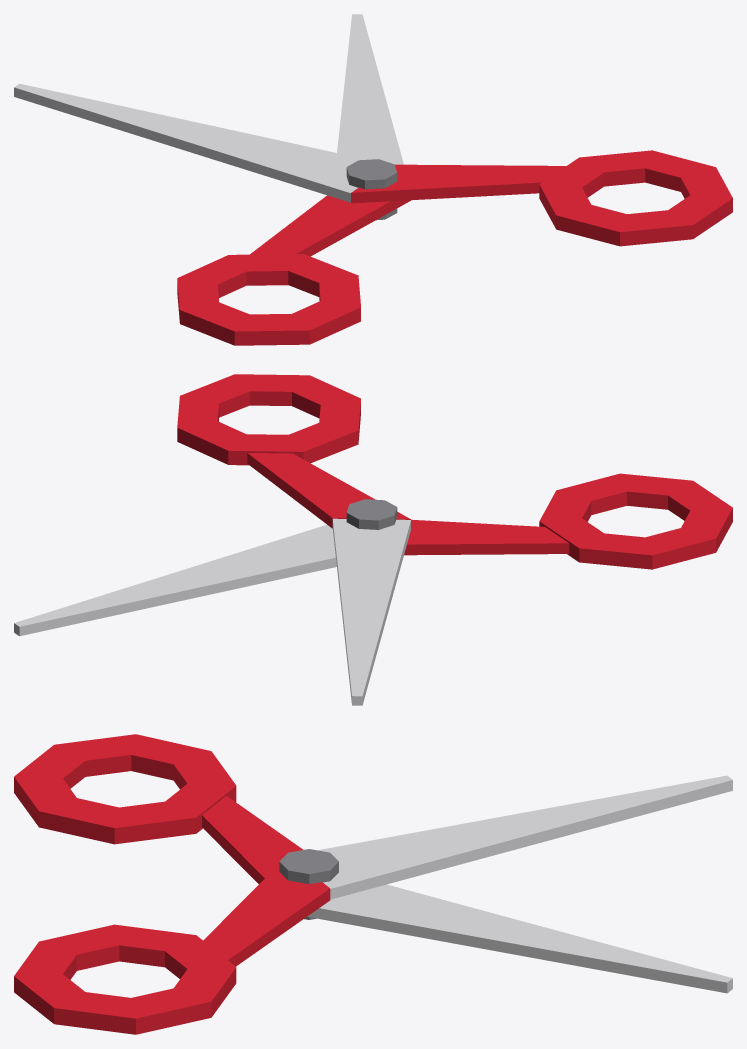
Rendered from ciseaux.glb.
3 views of the same model, one above another, from view 1: azimuth 30°, elevation 25°; view 2: azimuth 150°, elevation 25°; view 3: azimuth 270°, elevation 25° (orthographic). The views are drawn at different scales.
Parts seen in each view (by area): view 1: model; view 2: model; view 3: model.
Part boxes in pixels (box(x1,y1,x2,y2)): model: box(14, 14, 732, 345); model: box(14, 374, 732, 705); model: box(14, 734, 732, 1034).
Bounding box in the file's own units: 4.73 × 0.34 × 4.83.
